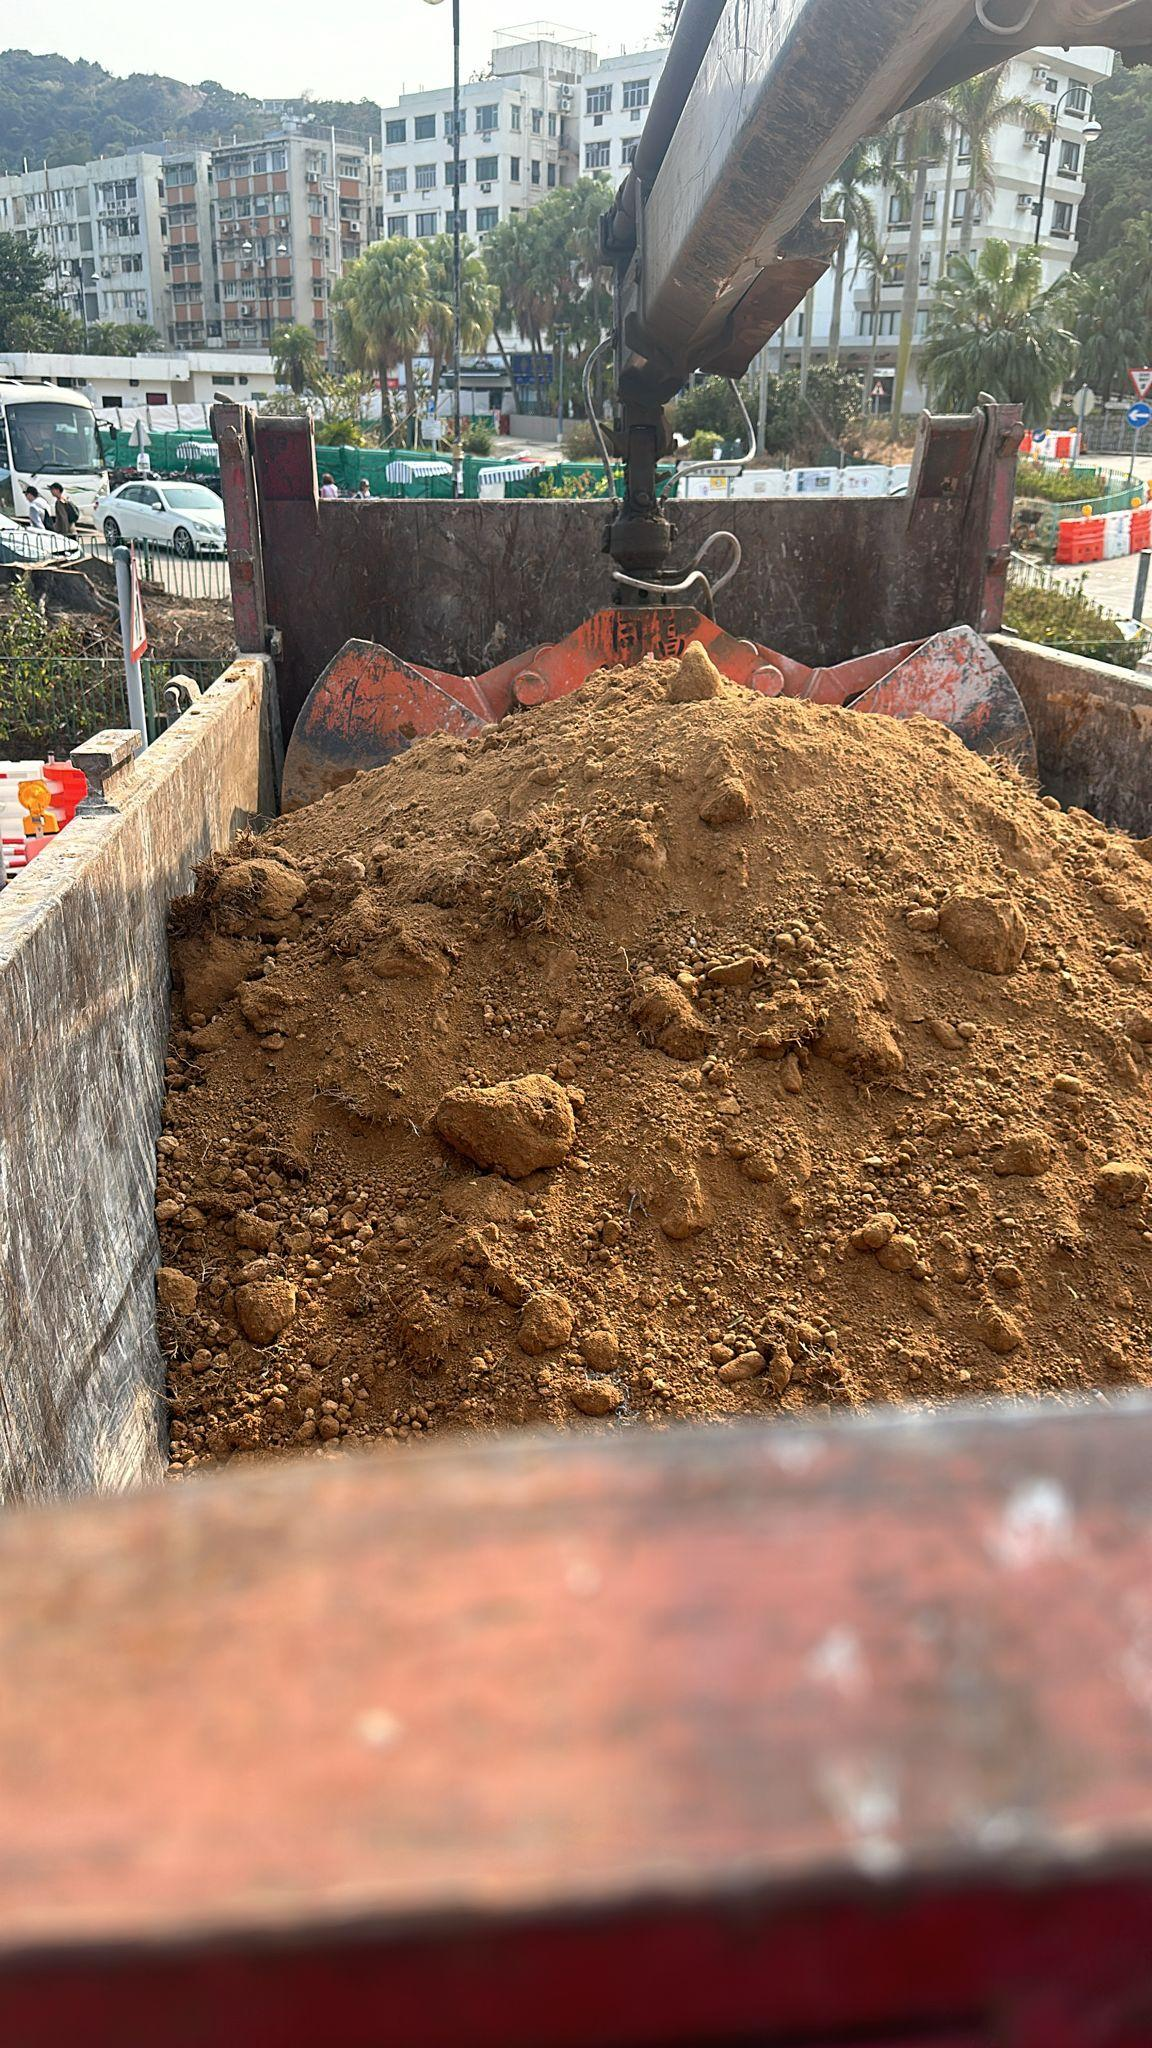dry: (160, 677, 1151, 1473)
